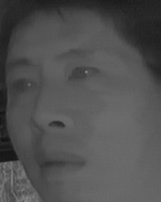eye: (66, 62, 106, 83), (8, 74, 38, 94)
mouth: (30, 148, 85, 183)
